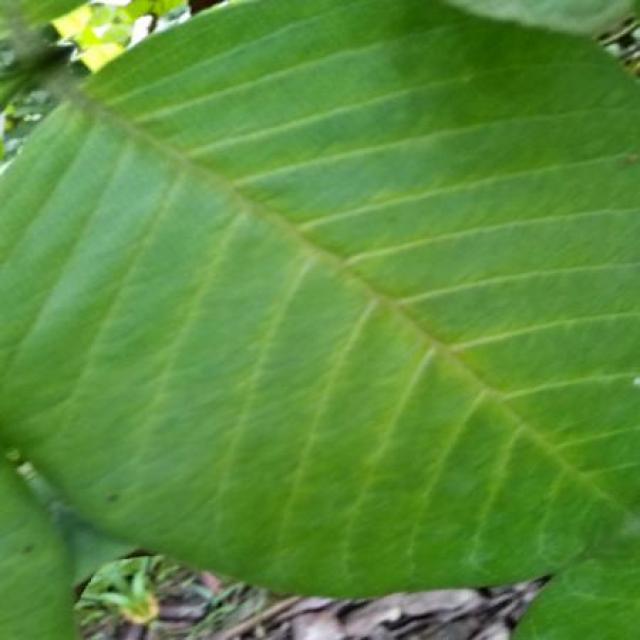Disease Free: (1, 0, 640, 593), (514, 511, 640, 639)
